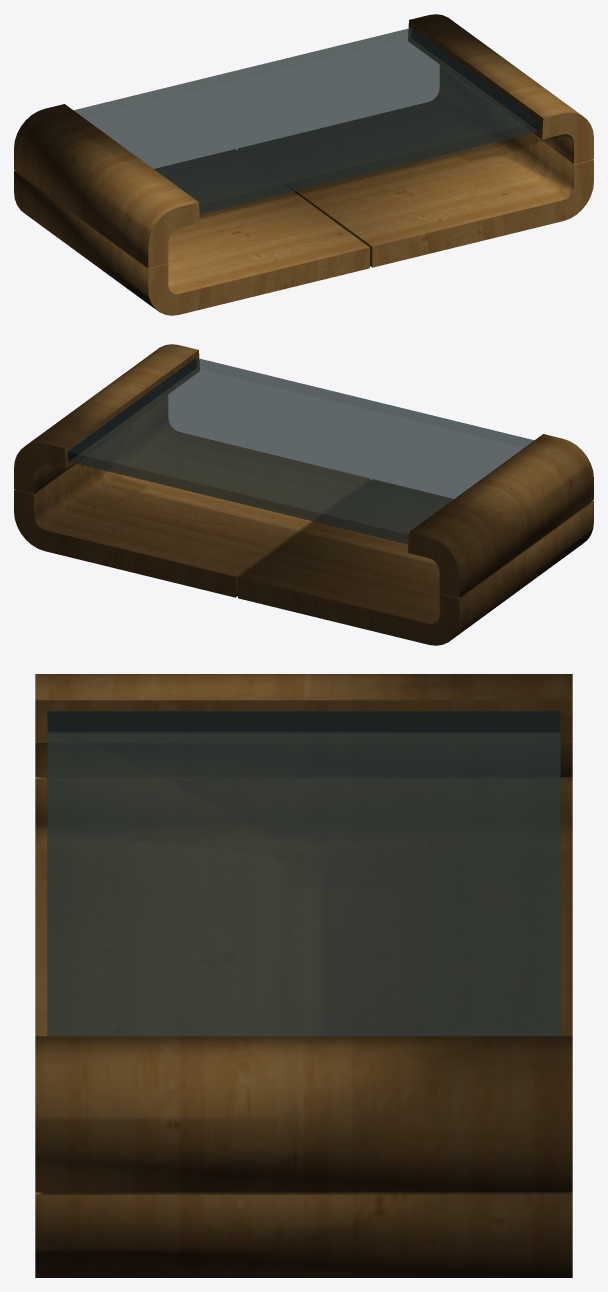
Rendered from table.obj.
The picture shows the model from 3 angles, top to bottom: view 1: azimuth 30°, elevation 25°; view 2: azimuth 150°, elevation 25°; view 3: azimuth 270°, elevation 25°; orthographic projection. The views are drawn at different scales.
Visible parts, largest first — view 1: table_tableMesh, table.001_tableMesh.001, table_tableMesh.001; view 2: table_tableMesh, table.001_tableMesh.001, table_tableMesh.001; view 3: table_tableMesh, table.001_tableMesh.001, table_tableMesh.001.
Boxes of the visible parts, bbox=[...] form: table_tableMesh: bbox=[14, 14, 593, 315]; table.001_tableMesh.001: bbox=[74, 27, 540, 214]; table_tableMesh.001: bbox=[411, 28, 540, 131]; table_tableMesh: bbox=[14, 344, 593, 645]; table.001_tableMesh.001: bbox=[67, 357, 533, 544]; table_tableMesh.001: bbox=[67, 358, 196, 461]; table_tableMesh: bbox=[35, 674, 572, 1277]; table.001_tableMesh.001: bbox=[47, 711, 560, 1036]; table_tableMesh.001: bbox=[47, 711, 560, 732].
Bounding box in the file's own units: 1.73 × 0.3998 × 0.9029.
Materials: 3 (1 with a texture image).
